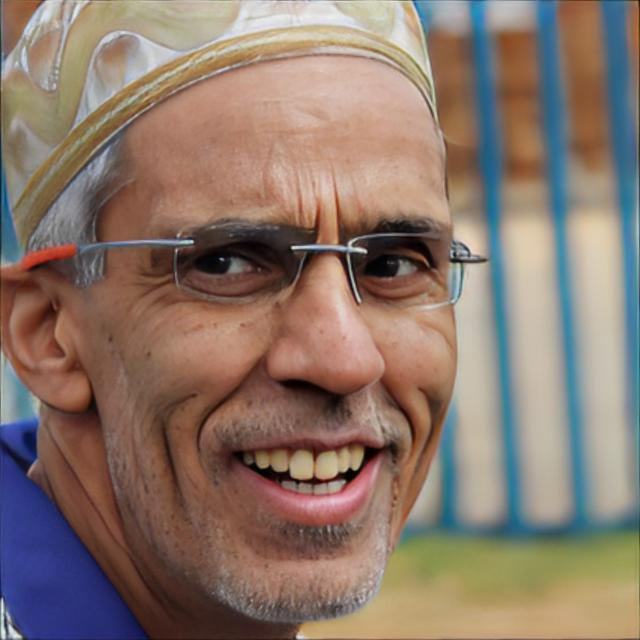happy: (84, 48, 462, 622)
